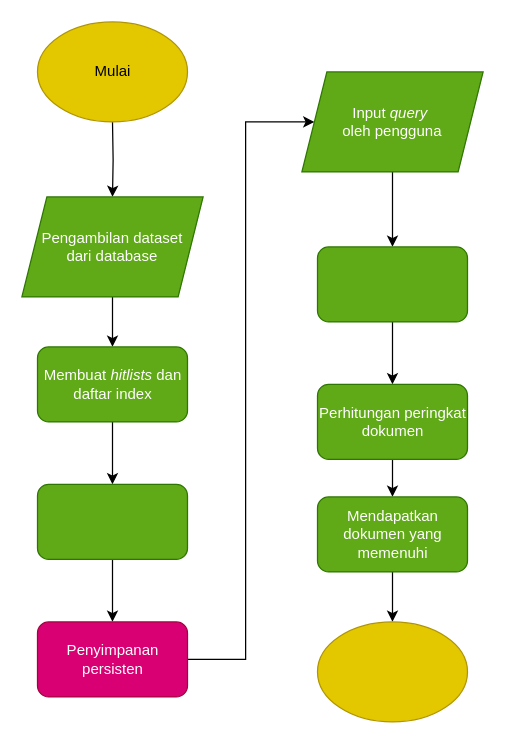
This 505x744 diagram has some shape labels left out. Each missing label, with the box of its shape:
Membentuk struktur GST: (36, 483, 188, 559)
Pengolahan query dari pengguna: (316, 246, 468, 322)
Selesai: (316, 621, 468, 722)
